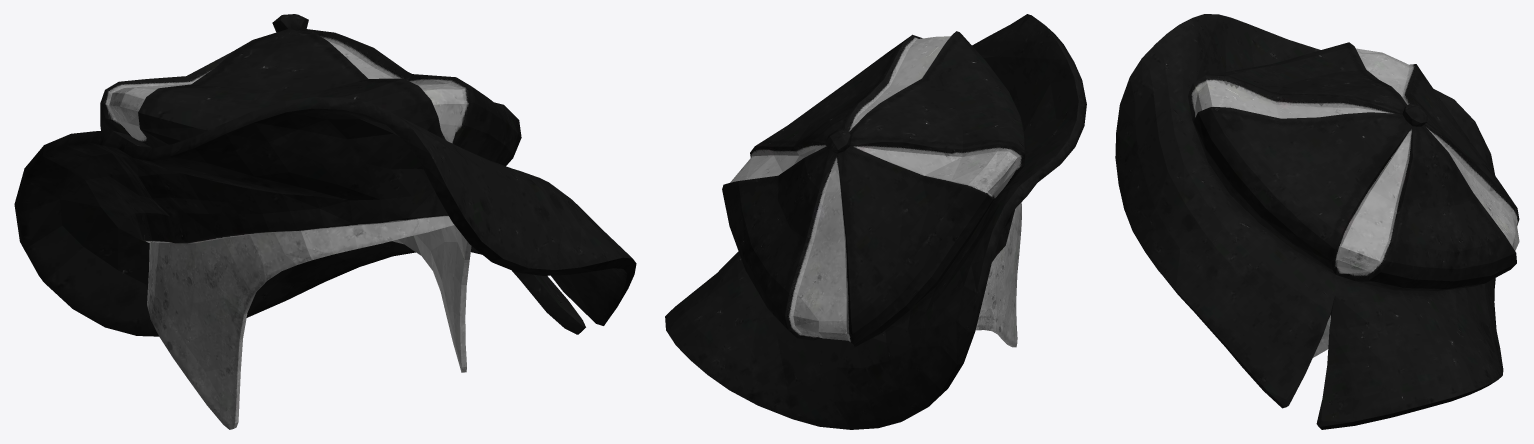
The model's file is KAPELUSZ_SZLACHCICA.glb.
3 renders of one model, left to right at view 1: azimuth 30°, elevation 25°; view 2: azimuth 150°, elevation 25°; view 3: azimuth 270°, elevation 25°, orthographic. The views are drawn at different scales.
Visible parts, largest first — view 1: KAPELUSZ_SZLACHCICA; view 2: KAPELUSZ_SZLACHCICA; view 3: KAPELUSZ_SZLACHCICA.
Boxes of the visible parts, <box> form: KAPELUSZ_SZLACHCICA: <box>14,14,636,429</box>; KAPELUSZ_SZLACHCICA: <box>665,14,1086,429</box>; KAPELUSZ_SZLACHCICA: <box>1115,14,1519,429</box>.
Size of the model in its own units: 0.3584 by 0.299 by 0.3664.
Materials: 1 (1 with a texture image).
